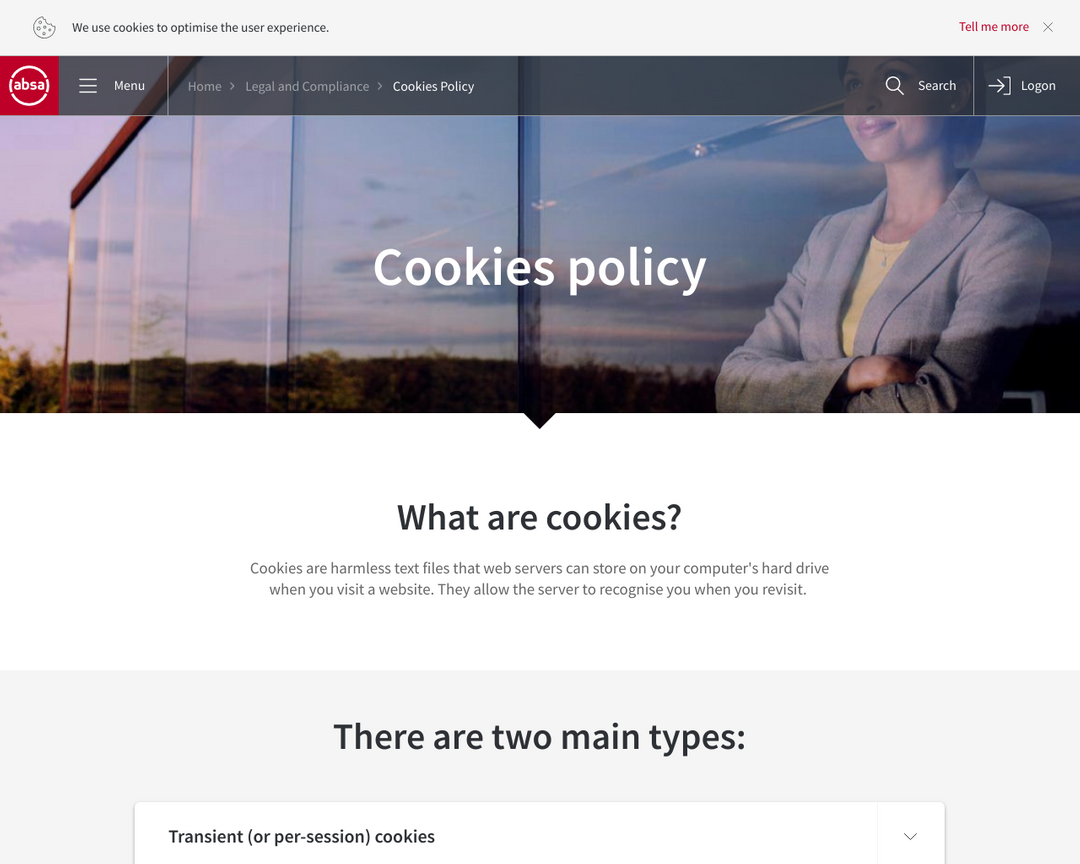ABSA: (3, 65, 52, 108)
